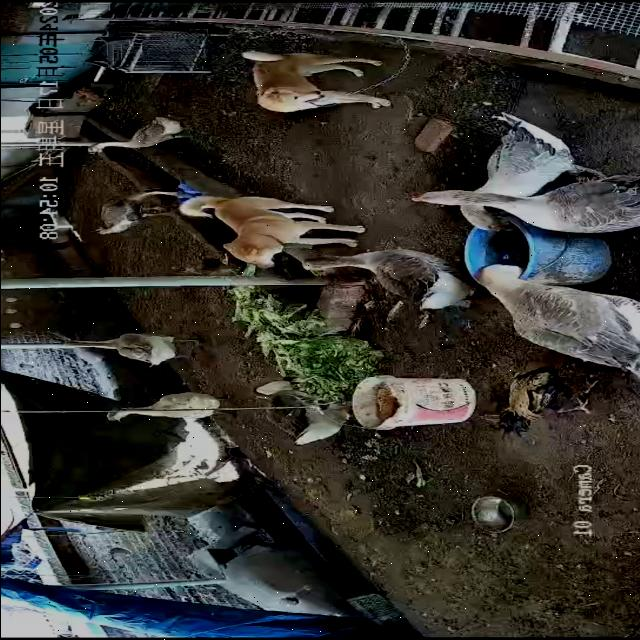dog: (179, 196, 367, 270), (241, 50, 393, 114)
